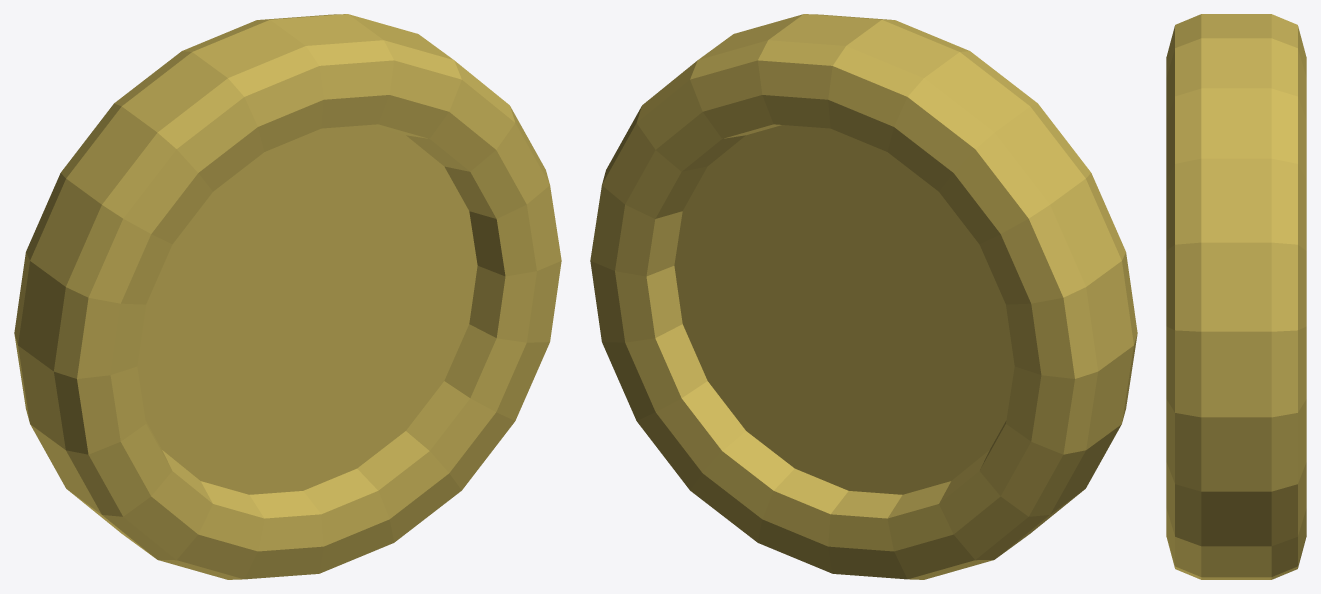
The model's file is coin.glb.
3 renders of one model, left to right at view 1: azimuth 30°, elevation 25°; view 2: azimuth 150°, elevation 25°; view 3: azimuth 270°, elevation 25°, orthographic. The views are drawn at different scales.
Visible parts, largest first — view 1: Coin; view 2: Coin; view 3: Coin.
Boxes of the visible parts, x1,y1,x2,y2 form: Coin: (14,14,561,579); Coin: (590,14,1137,579); Coin: (1166,14,1306,579).
Size of the model in its own units: 0.7367 by 0.7377 by 0.1812.
